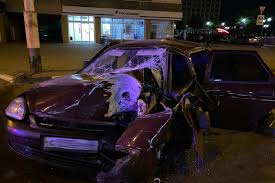car: (23, 28, 263, 171)
